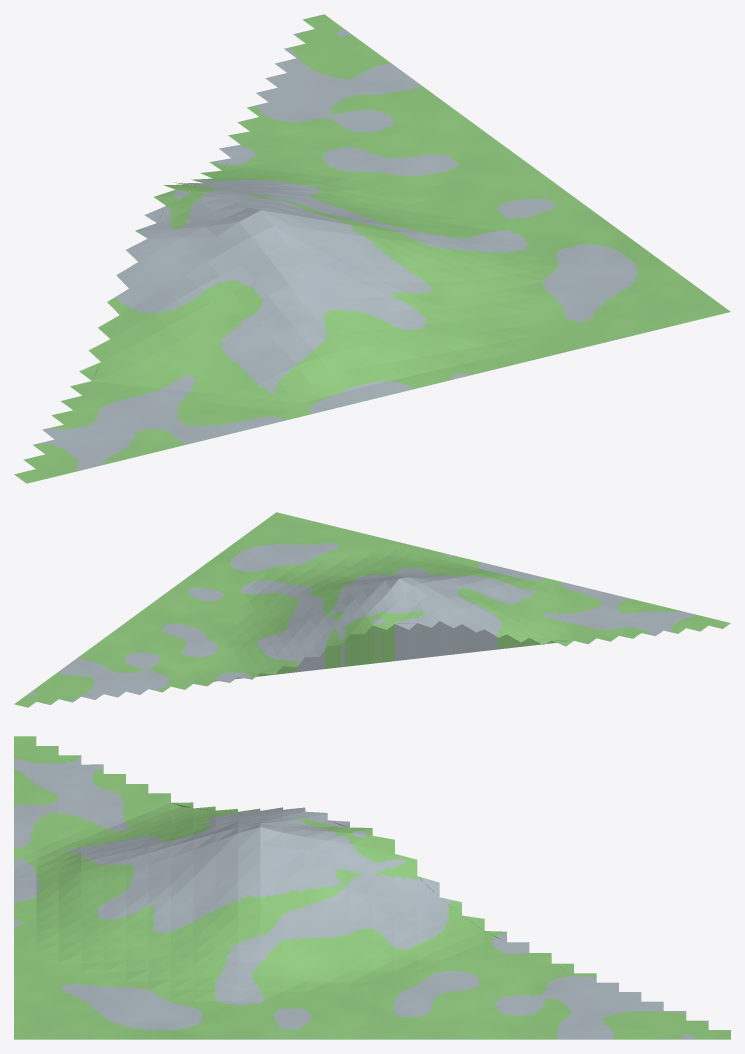
Rendered from Grass_RockyGround_03_NE.obj.
The picture shows the model from 3 angles, top to bottom: view 1: azimuth 30°, elevation 25°; view 2: azimuth 150°, elevation 25°; view 3: azimuth 270°, elevation 25°; orthographic projection. The views are drawn at different scales.
Size of the model in its own units: 10 by 1.08 by 10.
1 material, 1 textured.
